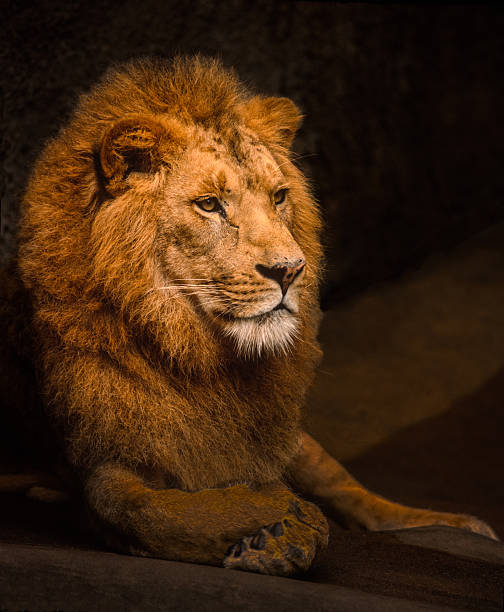lion: (8, 21, 372, 485)
